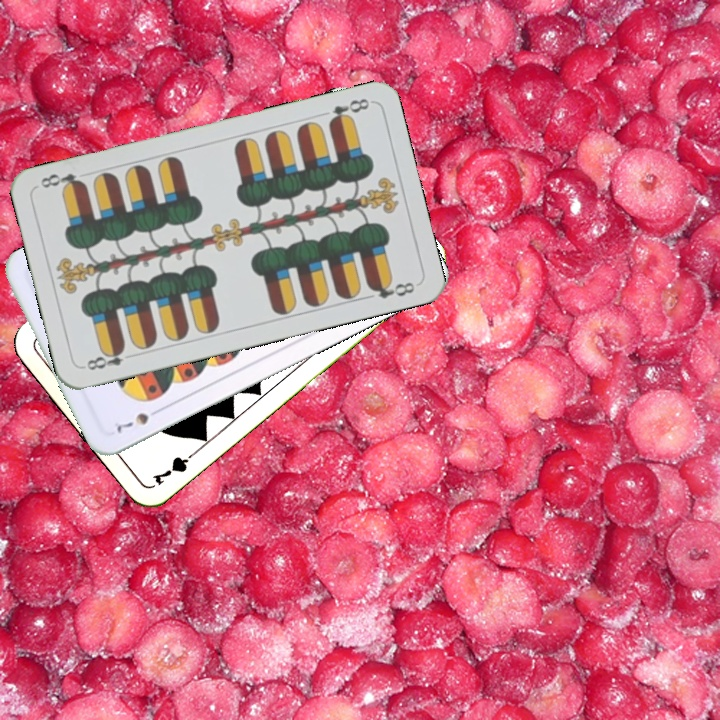E8: (79, 343, 138, 373), (324, 94, 372, 128)
G7: (149, 446, 201, 488)
S7: (112, 404, 165, 435)
